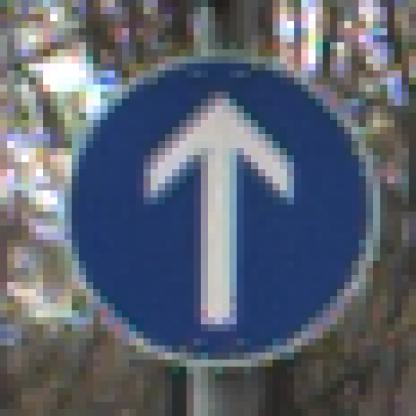AheadOnly: (37, 36, 381, 382)
